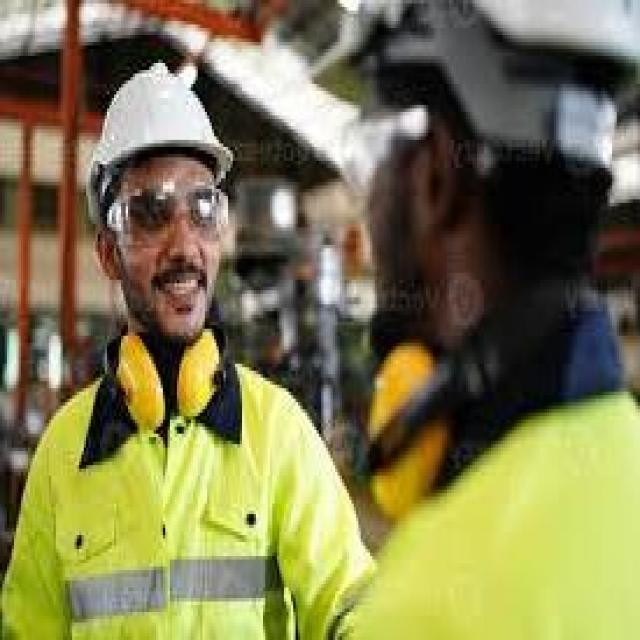Reflective-Jacket: (0, 332, 333, 633), (337, 381, 640, 637)
Safety-Helmet: (77, 59, 237, 200), (359, 332, 456, 455)
